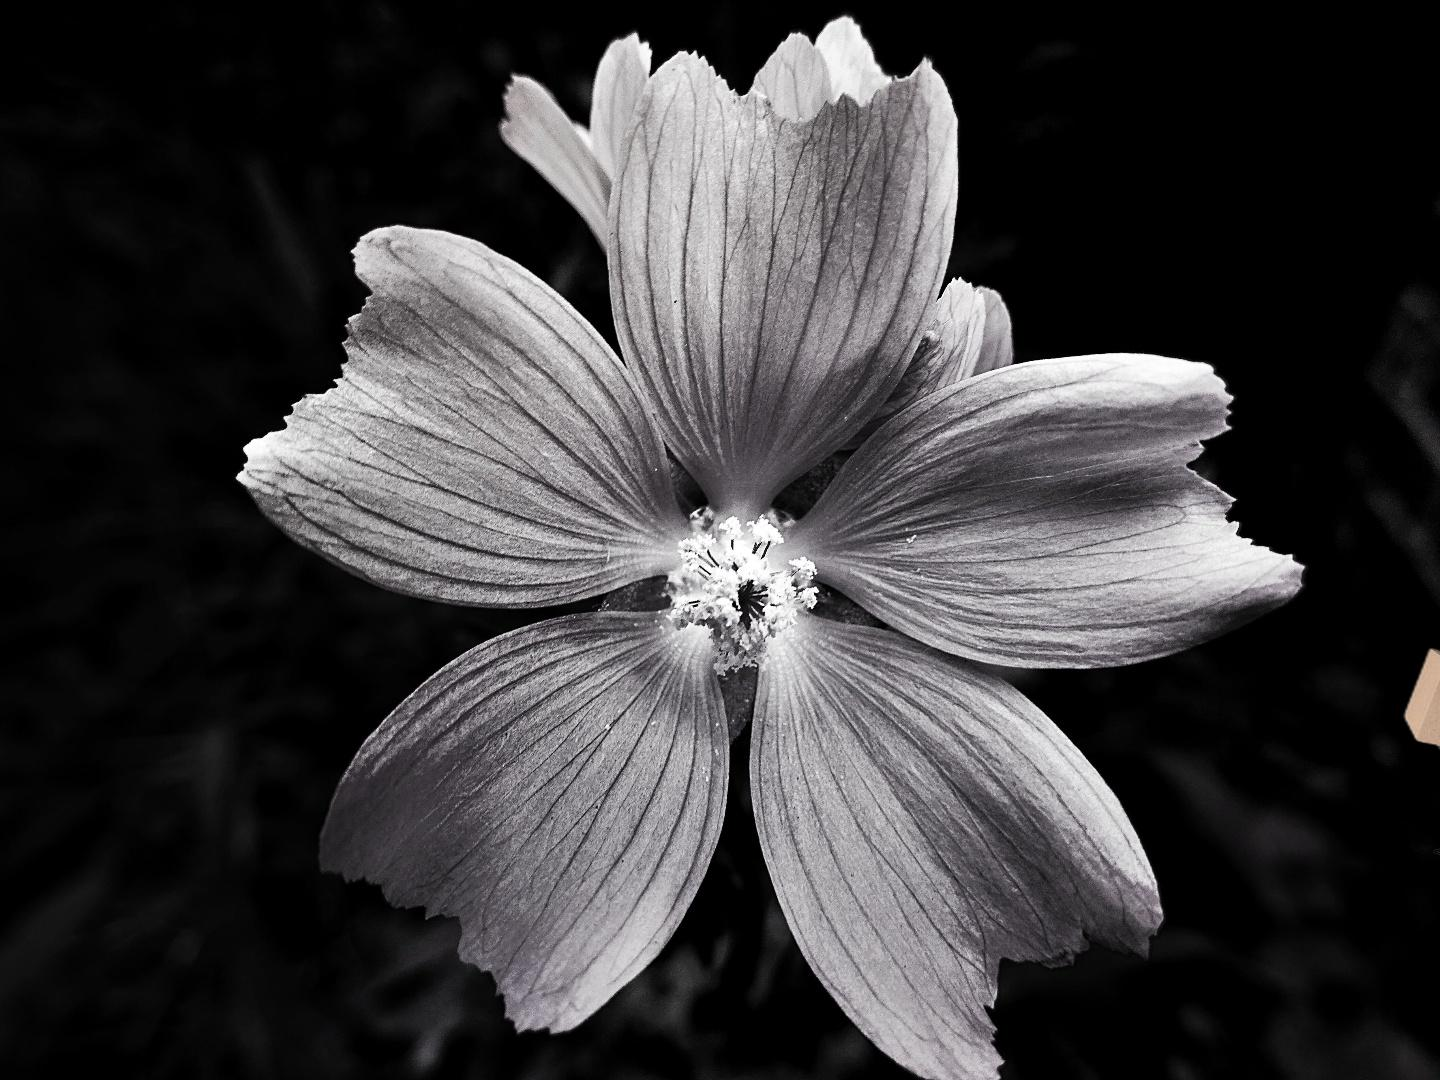trashbox-cardboard: (1398, 441, 1440, 875)
